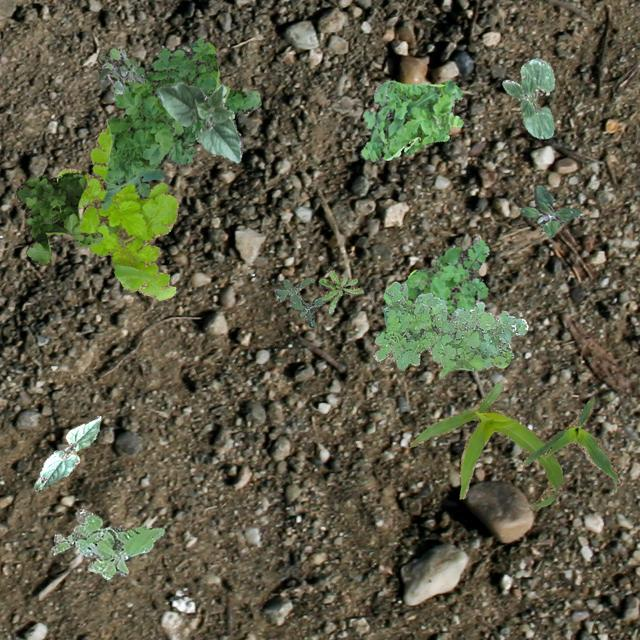crop: (408, 378, 562, 509), (522, 396, 620, 486), (156, 80, 242, 162), (33, 414, 100, 490), (500, 56, 552, 138)
weed: (100, 36, 260, 210), (56, 126, 178, 300), (372, 280, 526, 378), (382, 232, 488, 318), (15, 170, 104, 264), (358, 80, 462, 160), (51, 508, 162, 578), (518, 184, 582, 237), (274, 276, 326, 326), (98, 46, 144, 92), (318, 268, 362, 312)
